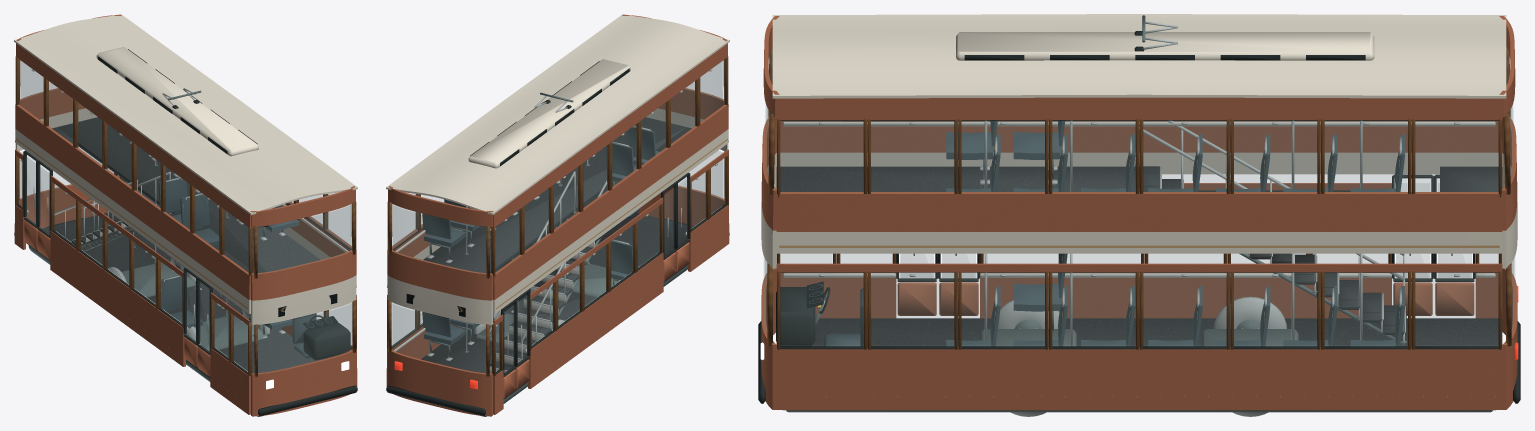
The model's file is vesper-t9-lod0.glb.
3 renders of one model, left to right at view 1: azimuth 30°, elevation 25°; view 2: azimuth 150°, elevation 25°; view 3: azimuth 270°, elevation 25°, orthographic. The views are drawn at different scales.
Visible parts, largest first — view 1: LOD0-tram-detail-0-pearl-batch, LOD0-tram-detail-0-paint-batch, LOD0-tram-detail-0-glass-batch, LOD0-tram-detail-0-floor-batch, LOD0-tram-detail-0-wood-batch, LOD0-tram-detail-0-cloth-batch, LOD0-tram-detail-0-dark-batch, LOD0-tram-detail-0-steel-batch, LOD0-tram-detail-0-metal-batch, LOD0-tram-door-0-port-leaf-1-glass-batch, LOD0-tram-door-1-port-leaf-1-glass-batch, LOD0-tram-door-0-port-leaf--1-glass-batch (+8 smaller); view 2: LOD0-tram-detail-0-pearl-batch, LOD0-tram-detail-0-paint-batch, LOD0-tram-detail-0-glass-batch, LOD0-tram-detail-0-floor-batch, LOD0-tram-detail-0-wood-batch, LOD0-tram-detail-0-cloth-batch, LOD0-tram-detail-0-dark-batch, LOD0-tram-detail-0-steel-batch, LOD0-tram-detail-0-metal-batch, LOD0-tram-detail-0-interior-batch, LOD0-tram-door-1-port-leaf--1-glass-batch, LOD0-tram-door-0-port-leaf--1-glass-batch (+7 smaller); view 3: LOD0-tram-detail-0-paint-batch, LOD0-tram-detail-0-glass-batch, LOD0-tram-detail-0-pearl-batch, LOD0-tram-detail-0-floor-batch, LOD0-tram-detail-0-cloth-batch, LOD0-tram-detail-0-wood-batch, LOD0-tram-detail-0-dark-batch, LOD0-tram-detail-0-interior-batch, LOD0-tram-detail-0-metal-batch, LOD0-tram-detail-0-steel-batch, LOD0-tram-detail-0-livery-batch, LOD0-tram-door-0-port-leaf--1-paint-batch (+5 smaller).
Boxes of the visible parts, left/top/right/bottom form: LOD0-tram-detail-0-pearl-batch: left=14, top=14, right=357, bottom=325; LOD0-tram-detail-0-paint-batch: left=14, top=14, right=357, bottom=416; LOD0-tram-detail-0-glass-batch: left=18, top=60, right=351, bottom=372; LOD0-tram-detail-0-floor-batch: left=26, top=117, right=322, bottom=377; LOD0-tram-detail-0-wood-batch: left=15, top=56, right=356, bottom=376; LOD0-tram-detail-0-cloth-batch: left=125, top=177, right=316, bottom=358; LOD0-tram-detail-0-dark-batch: left=14, top=49, right=357, bottom=415; LOD0-tram-detail-0-steel-batch: left=28, top=90, right=283, bottom=416; LOD0-tram-detail-0-metal-batch: left=20, top=69, right=316, bottom=391; LOD0-tram-door-0-port-leaf-1-glass-batch: left=39, top=167, right=49, bottom=234; LOD0-tram-door-1-port-leaf-1-glass-batch: left=199, top=284, right=209, bottom=351; LOD0-tram-door-0-port-leaf--1-glass-batch: left=26, top=157, right=35, bottom=224; LOD0-tram-detail-0-pearl-batch: left=386, top=14, right=729, bottom=325; LOD0-tram-detail-0-paint-batch: left=386, top=14, right=729, bottom=416; LOD0-tram-detail-0-glass-batch: left=392, top=60, right=725, bottom=372; LOD0-tram-detail-0-floor-batch: left=421, top=117, right=693, bottom=399; LOD0-tram-detail-0-wood-batch: left=387, top=56, right=728, bottom=376; LOD0-tram-detail-0-cloth-batch: left=422, top=126, right=659, bottom=344; LOD0-tram-detail-0-dark-batch: left=386, top=61, right=729, bottom=415; LOD0-tram-detail-0-steel-batch: left=429, top=92, right=687, bottom=416; LOD0-tram-detail-0-metal-batch: left=427, top=69, right=717, bottom=371; LOD0-tram-detail-0-interior-batch: left=394, top=206, right=721, bottom=373; LOD0-tram-door-1-port-leaf--1-glass-batch: left=664, top=189, right=674, bottom=256; LOD0-tram-door-0-port-leaf--1-glass-batch: left=504, top=306, right=514, bottom=373; LOD0-tram-detail-0-paint-batch: left=761, top=16, right=1517, bottom=410; LOD0-tram-detail-0-glass-batch: left=763, top=48, right=1514, bottom=345; LOD0-tram-detail-0-pearl-batch: left=761, top=14, right=1517, bottom=268; LOD0-tram-detail-0-floor-batch: left=776, top=166, right=1502, bottom=347; LOD0-tram-detail-0-cloth-batch: left=824, top=120, right=1404, bottom=347; LOD0-tram-detail-0-wood-batch: left=767, top=47, right=1511, bottom=349; LOD0-tram-detail-0-dark-batch: left=758, top=31, right=1520, bottom=403; LOD0-tram-detail-0-interior-batch: left=783, top=121, right=1495, bottom=344; LOD0-tram-detail-0-metal-batch: left=819, top=21, right=1495, bottom=397; LOD0-tram-detail-0-steel-batch: left=786, top=15, right=1492, bottom=412; LOD0-tram-detail-0-livery-batch: left=779, top=147, right=1499, bottom=326; LOD0-tram-door-0-port-leaf--1-paint-batch: left=1435, top=282, right=1474, bottom=315.
Bounding box in the file's own units: 2.28 × 4.69 × 8.93.
Materials: 15 (5 with a texture image).
